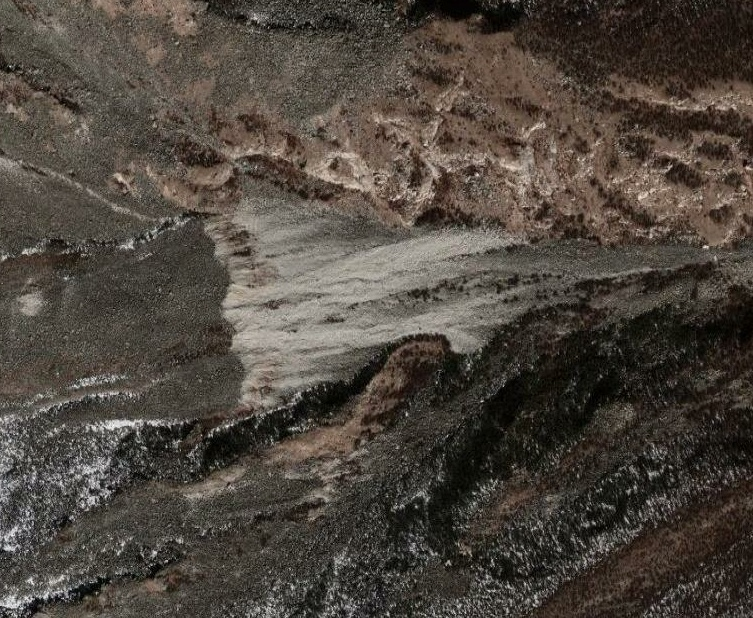slope: (198, 152, 716, 415)
